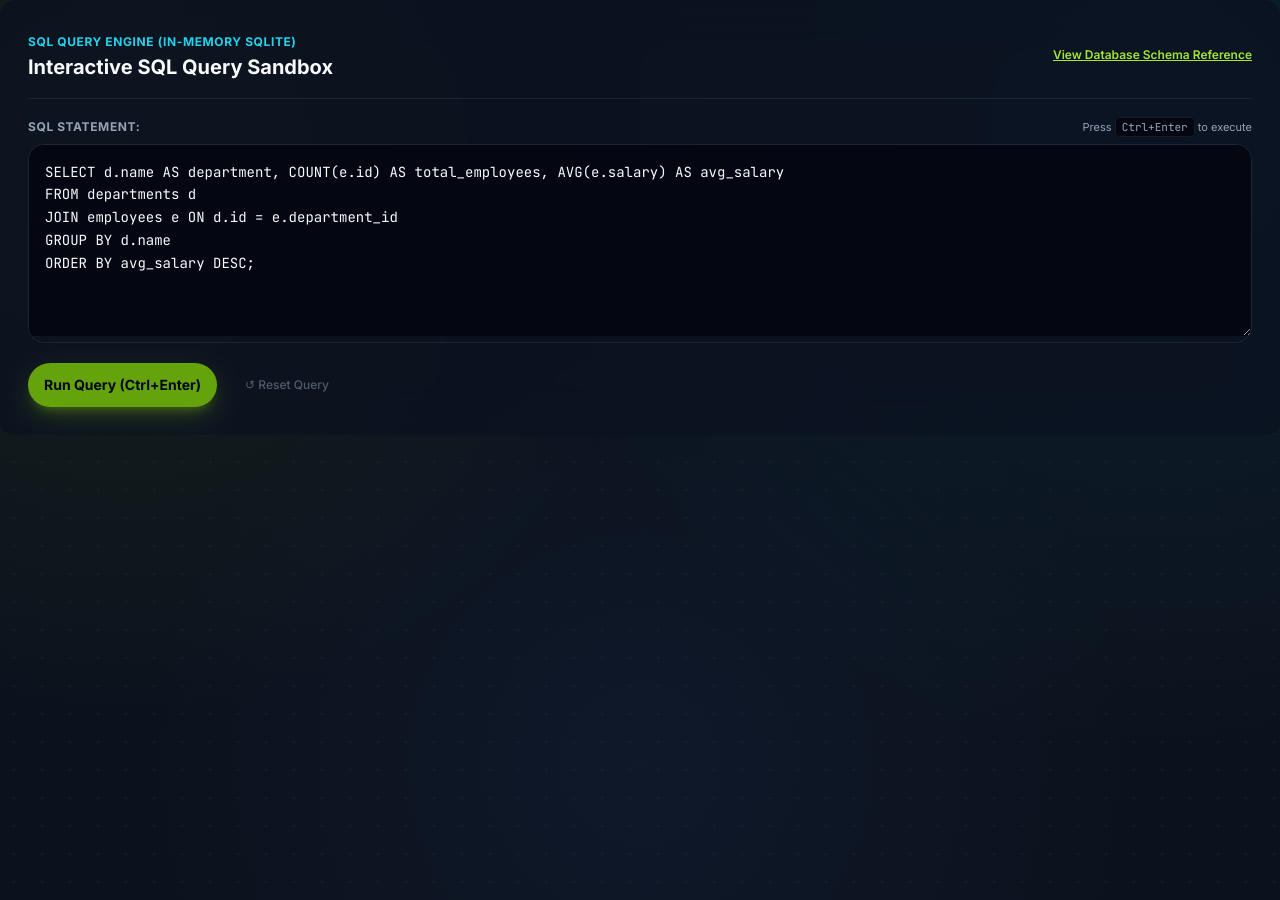
Test case: SqlQuerySandbox › displays error alert when SQL execution fails
The image size is (1280, 900).
What coordinates should you click on to do the following:
click the button "Run Query (Ctrl+Enter)"
I would click on:
 (122, 385)
Its box is [28, 363, 217, 407].
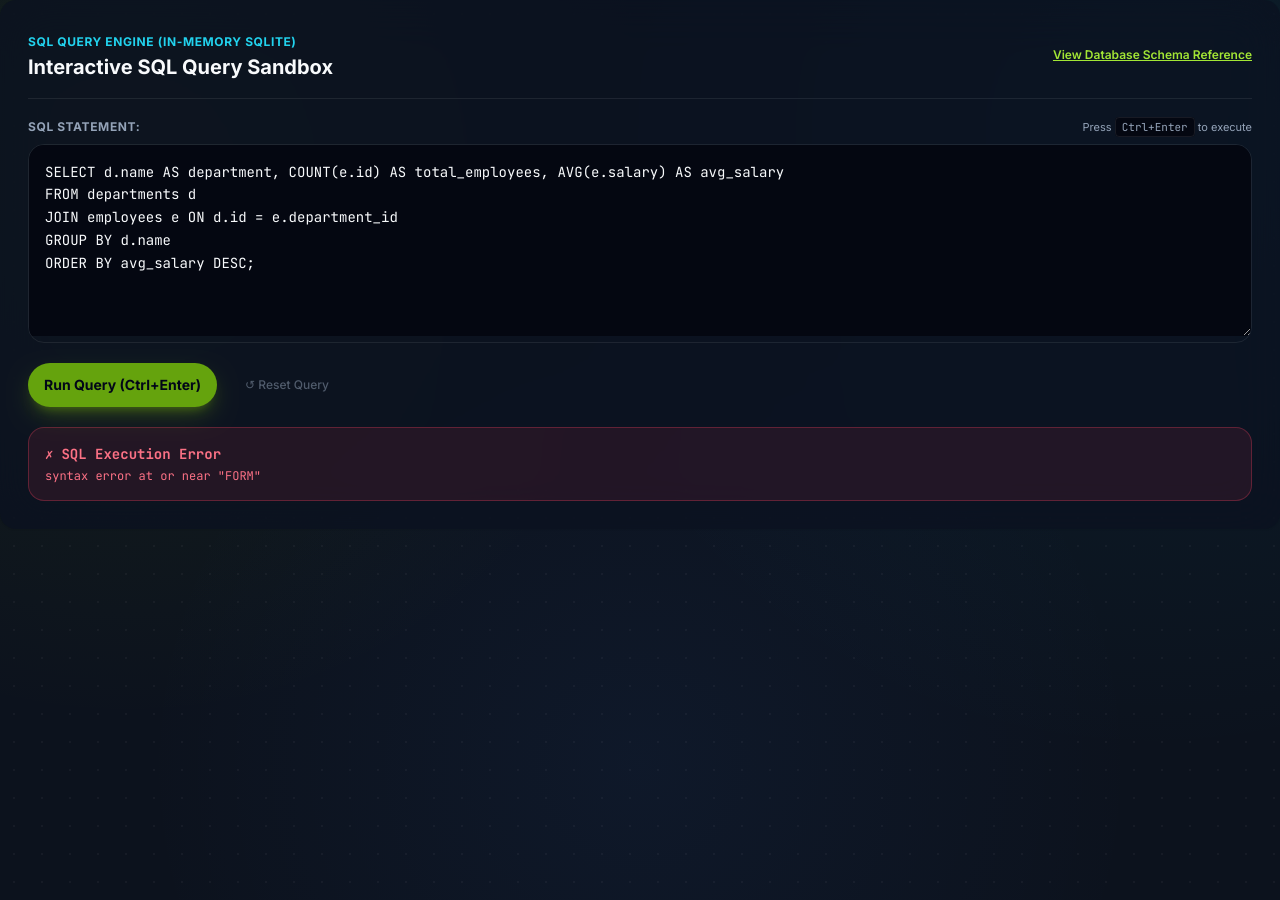
Now the text "SQL Execution Error" is shown, box [61, 445, 221, 463]
Now the text "syntax error at or near \"FORM\"" is shown, box [45, 468, 261, 484]
